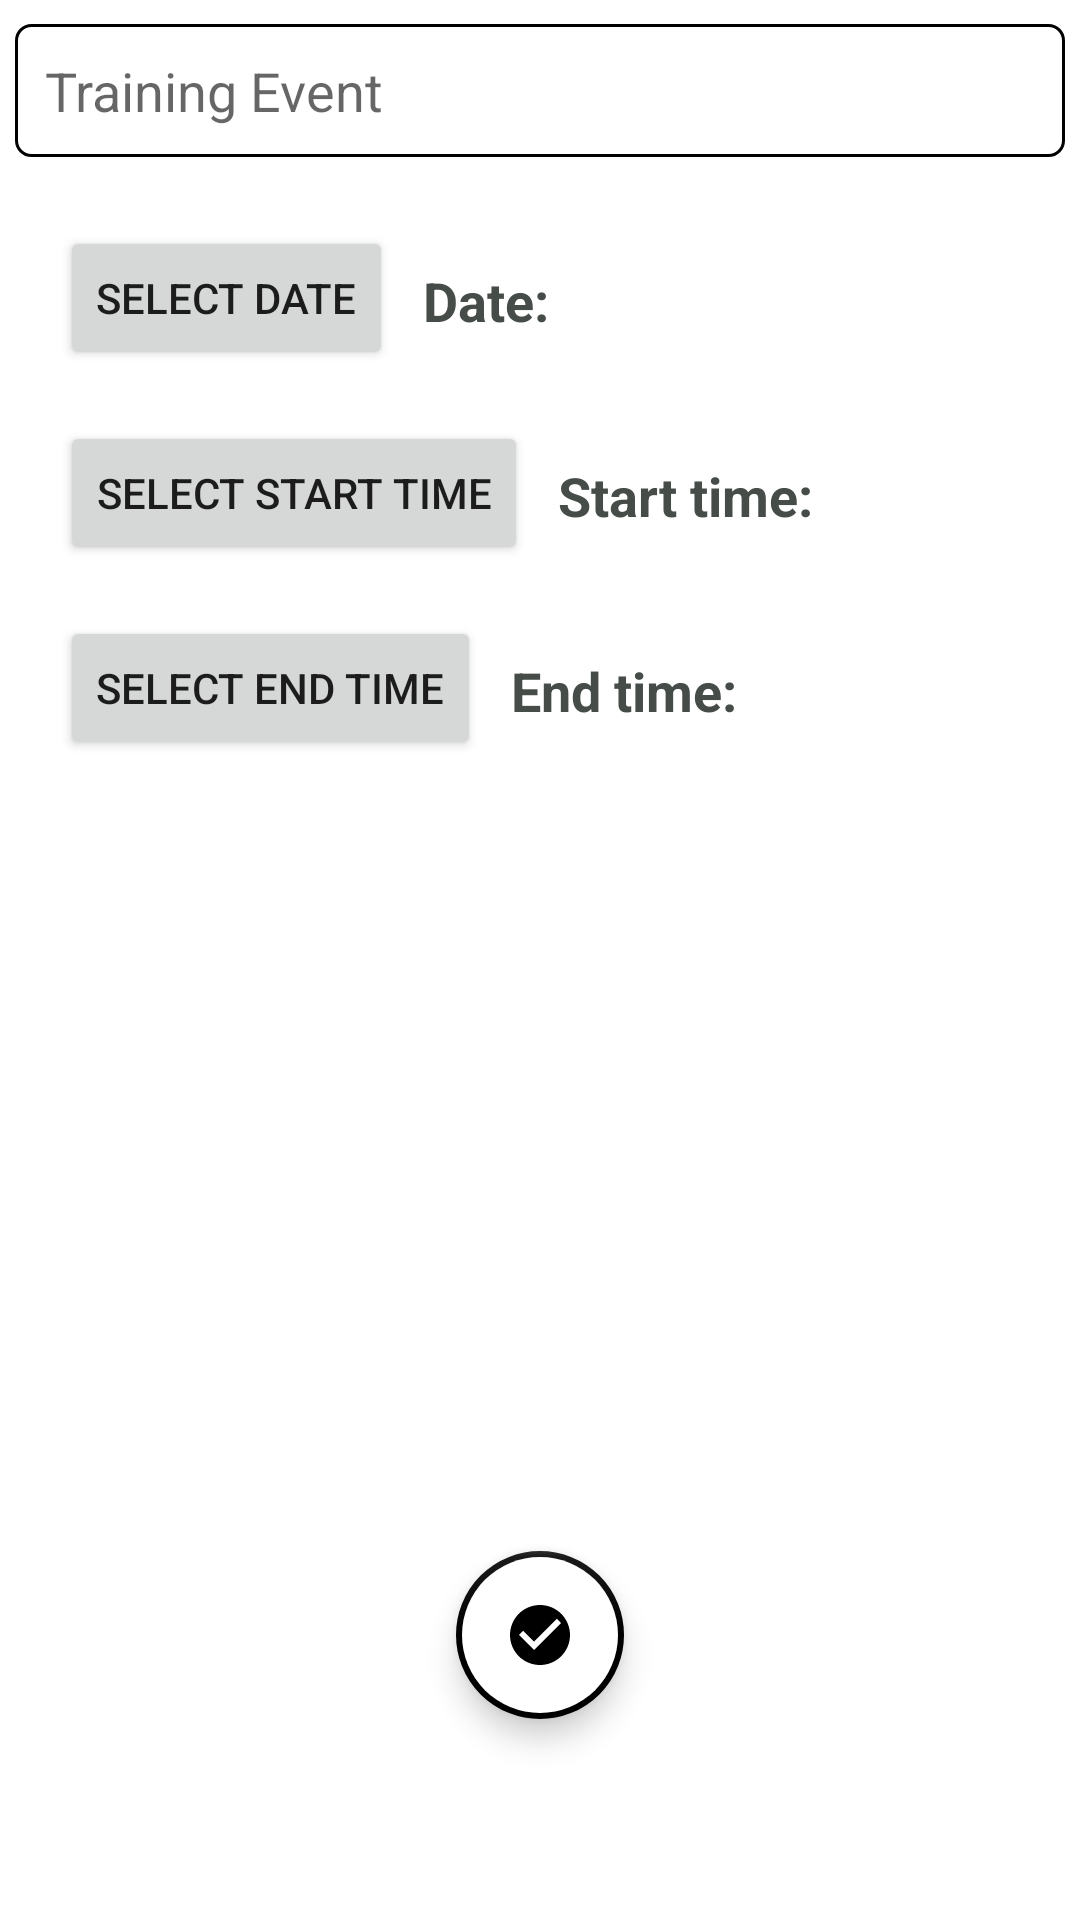

Icon click points for this 1080×1920 phone screenshot, format (x=x, y=y):
Tick to add new note: (x=540, y=1635)
